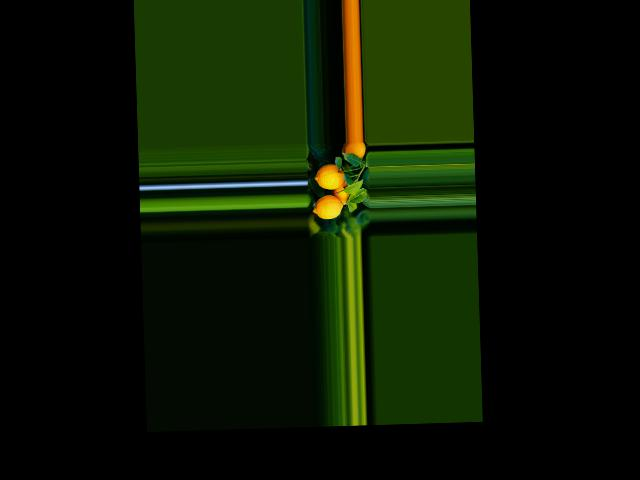lemon: (313, 195, 344, 219)
